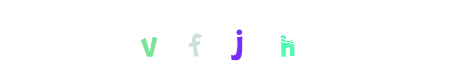F: (181, 0, 261, 80)
H: (198, 0, 278, 80)
J: (190, 0, 270, 80)
V: (165, 0, 245, 80)
